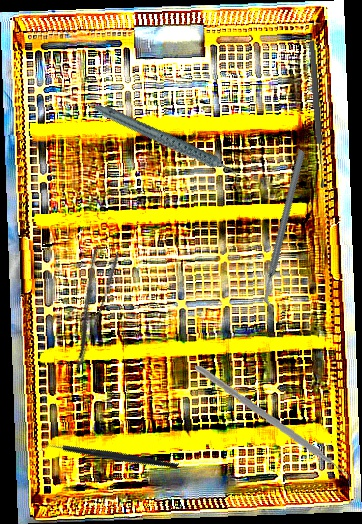Chopper: (212, 148, 359, 310), (187, 365, 359, 492), (38, 400, 180, 516)
Dressing Forceps: (55, 244, 123, 370)
Handpiece: (92, 76, 242, 210)
Surgical Spoon: (307, 39, 327, 189)
